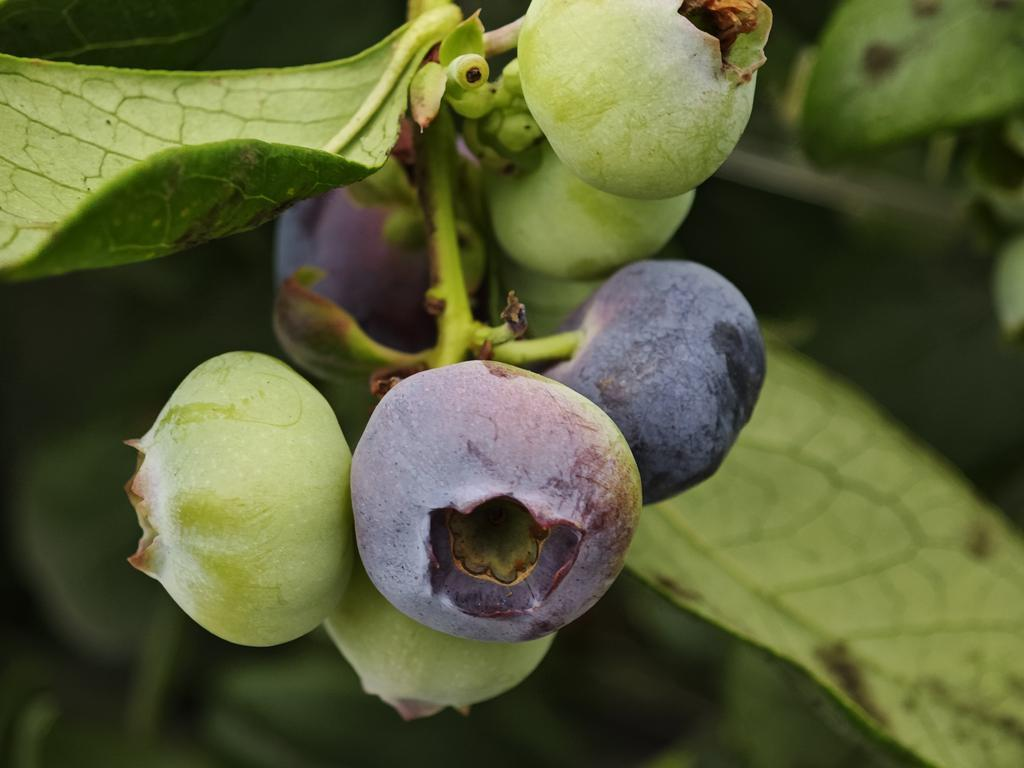Semi-RipeBlueBerry: (356, 360, 643, 643)
UnripeBlueBerry: (136, 354, 349, 649), (521, 1, 769, 192)
